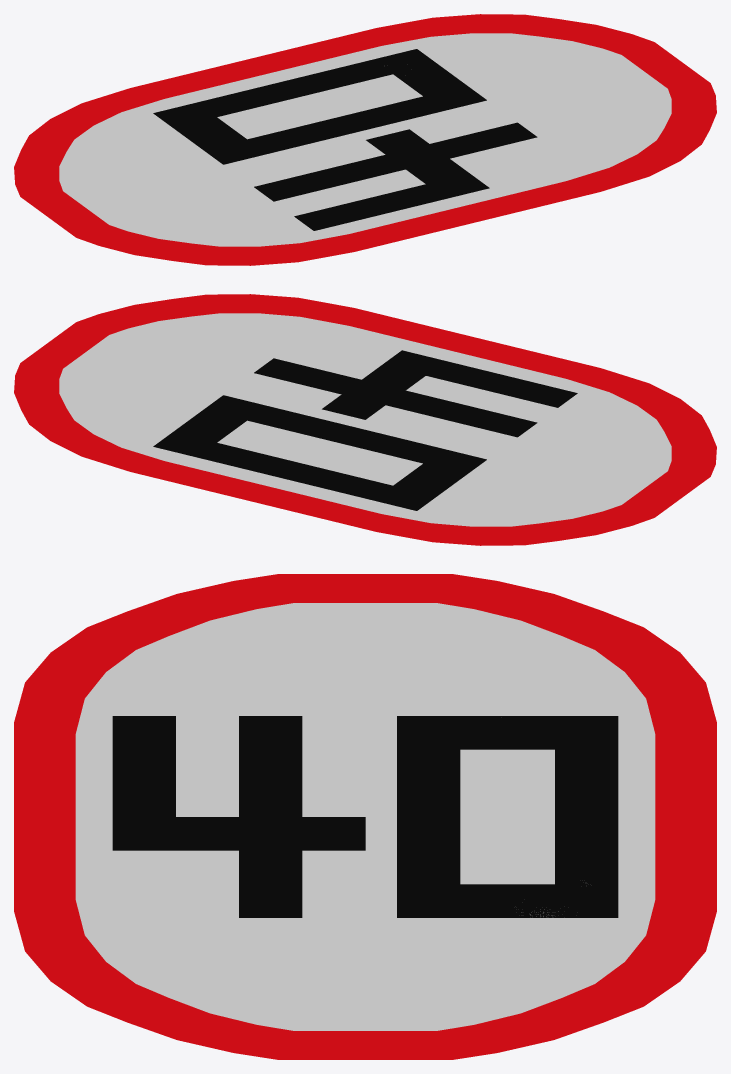
Rendered from SpeedLimitingSign40.fbx.
The picture shows the model from 3 angles, top to bottom: view 1: azimuth 30°, elevation 25°; view 2: azimuth 150°, elevation 25°; view 3: azimuth 270°, elevation 25°; orthographic projection. The views are drawn at different scales.
Visible parts, largest first — view 1: SpeedLimitSign; view 2: SpeedLimitSign; view 3: SpeedLimitSign.
Part boxes in pixels (x1,y1,x2,y2): SpeedLimitSign: [14, 14, 716, 265]; SpeedLimitSign: [14, 294, 716, 545]; SpeedLimitSign: [14, 574, 716, 1059].
Bounding box in the file's own units: 25.19 × 5.97e-06 × 15.41.
